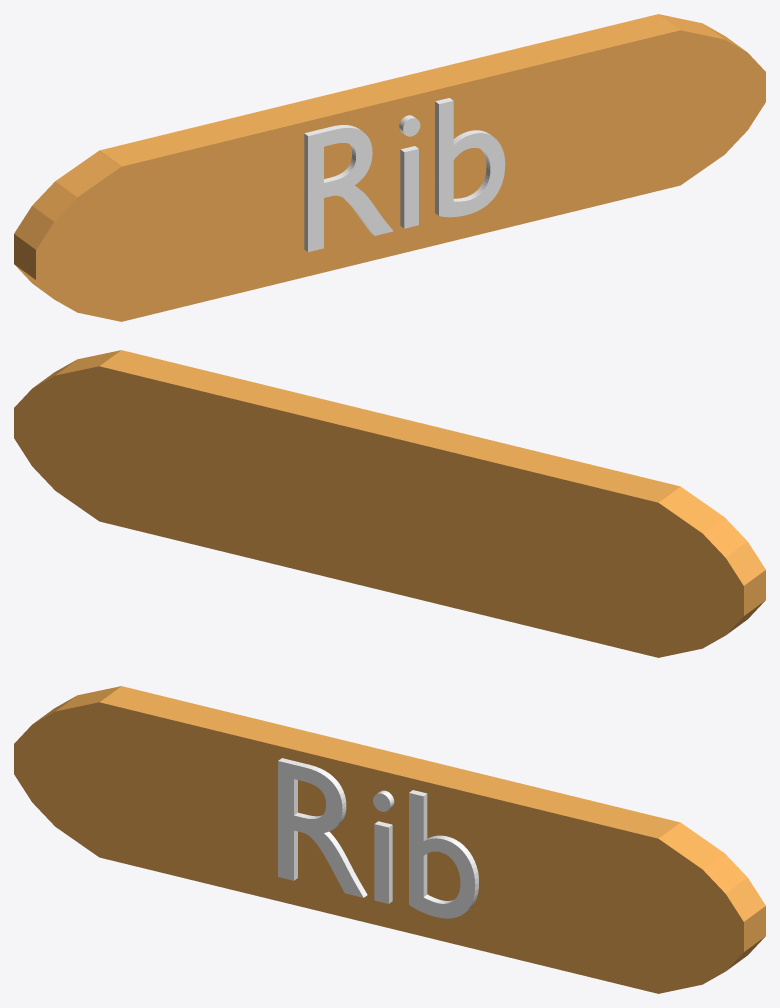
File: txtRib.fbx
The picture shows the model from 3 angles, top to bottom: view 1: azimuth 30°, elevation 25°; view 2: azimuth 150°, elevation 25°; view 3: azimuth 330°, elevation 25°; orthographic projection.
Parts seen in each view (by area): view 1: TagContainer.006, Text.006; view 2: TagContainer.006; view 3: TagContainer.006, Text.006.
Boxes of the visible parts, x1=… form: TagContainer.006: x1=14, y1=14, x2=765, y2=321; Text.006: x1=304, y1=98, x2=505, y2=252; TagContainer.006: x1=14, y1=350, x2=765, y2=657; TagContainer.006: x1=14, y1=686, x2=765, y2=993; Text.006: x1=278, y1=758, x2=478, y2=918.
Size of the model in its own units: 203 by 41.3 by 12.58.
